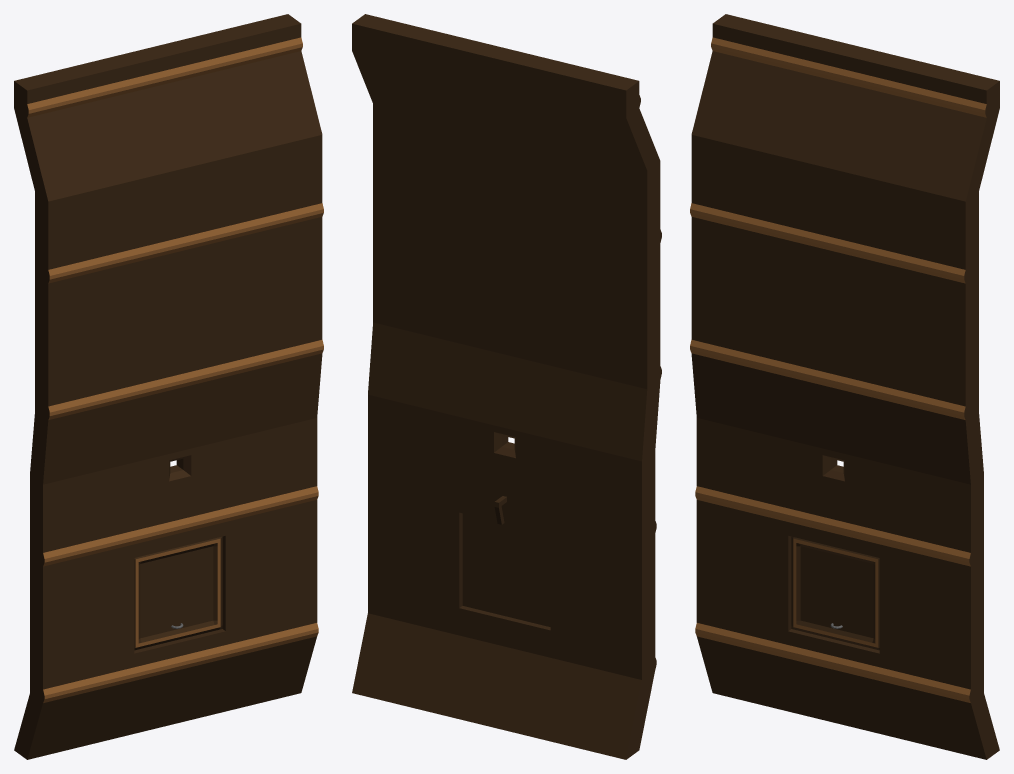
Rendered from lateralCurvaPortinhola.fbx.
3 renders of one model, left to right at view 1: azimuth 30°, elevation 25°; view 2: azimuth 150°, elevation 25°; view 3: azimuth 330°, elevation 25°, orthographic.
Visible parts, largest first — view 1: Cube.060, Cube.061; view 2: Cube.060, Cube.061; view 3: Cube.060, Cube.061.
Part boxes in pixels (x1,y1,x2,y2): Cube.060: (14, 14, 323, 759); Cube.061: (134, 536, 222, 650); Cube.060: (352, 14, 661, 759); Cube.061: (462, 513, 550, 626); Cube.060: (690, 14, 999, 759); Cube.061: (791, 536, 879, 650).
Size of the model in its own units: 300 by 700 by 67.8.
